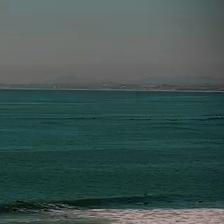surfer: (16, 200, 22, 204), (144, 202, 149, 206), (198, 200, 202, 204), (44, 210, 49, 212), (143, 193, 146, 196), (64, 215, 67, 218), (12, 210, 16, 212)
